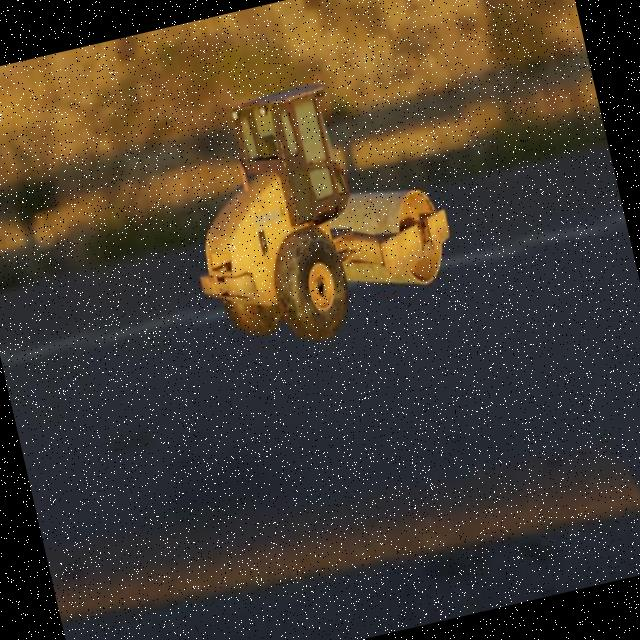Roller: (162, 58, 466, 364)
